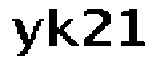1: (117, 8, 147, 53)
2: (80, 6, 112, 48)
k: (47, 6, 79, 51)
y: (9, 16, 44, 60)
